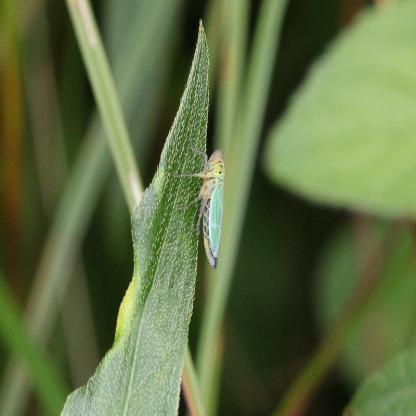Green-Leafhopper: (176, 142, 228, 270)
